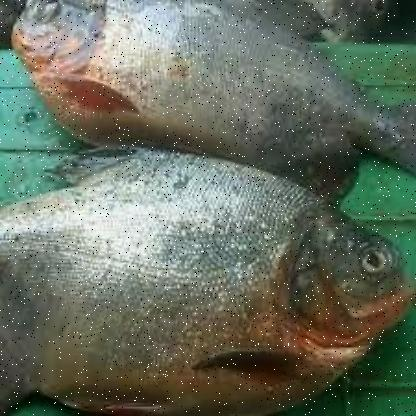ikan-pacu: (1, 145, 415, 416), (12, 0, 409, 166)
